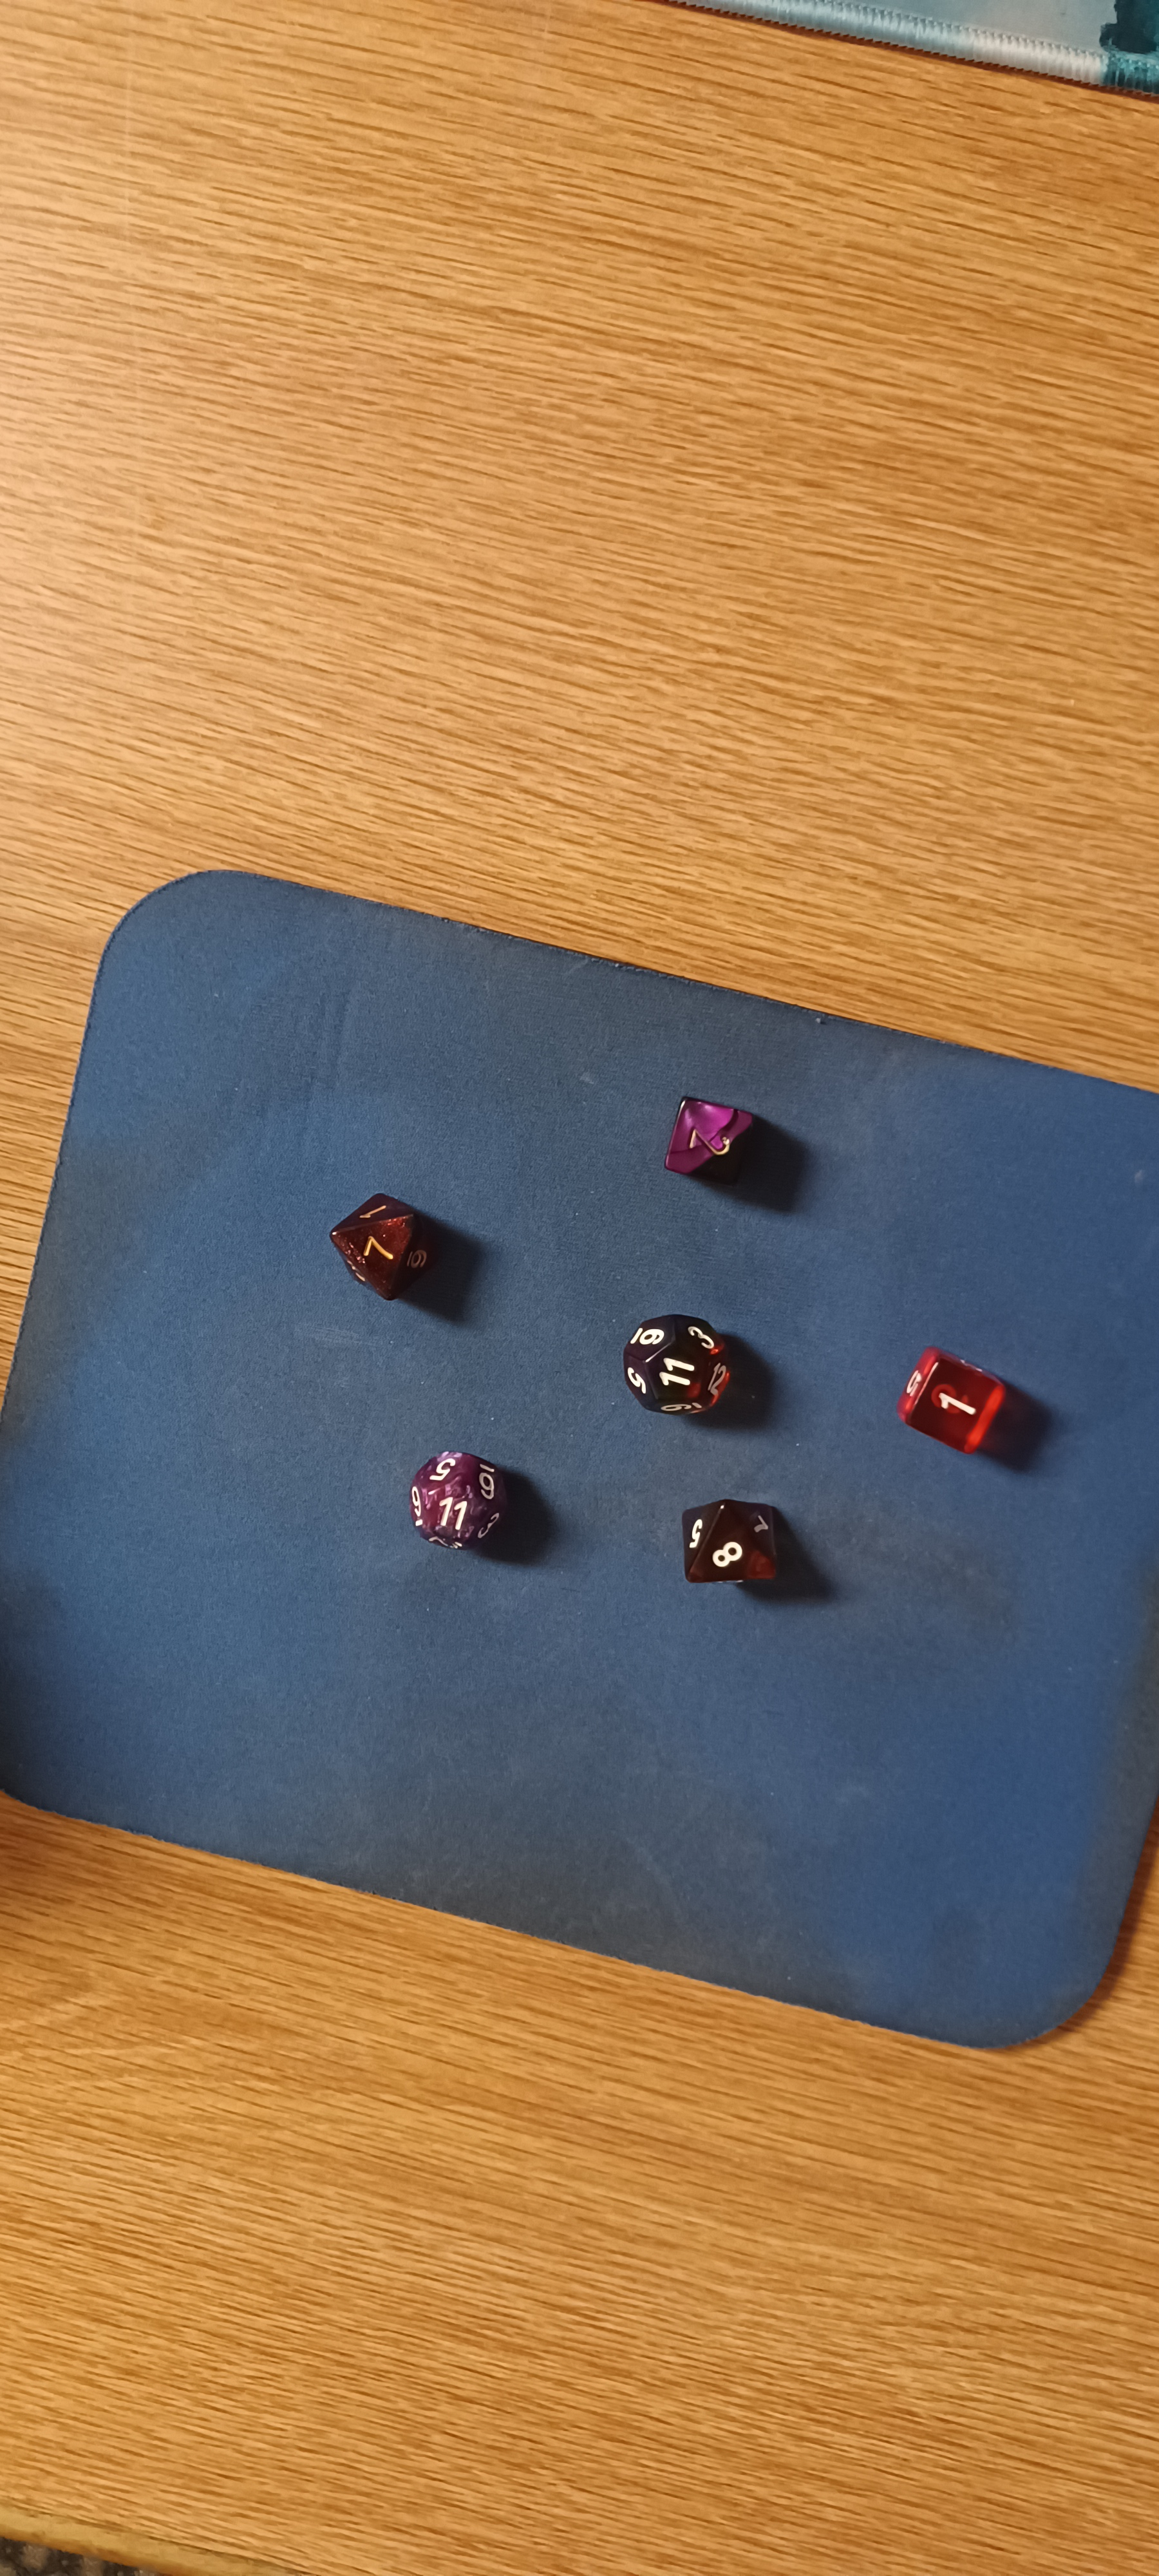eight: (644, 1482, 818, 1612)
eleven: (376, 1434, 525, 1561), (611, 1295, 755, 1423)
one: (885, 1326, 1024, 1472)
seven: (314, 1173, 442, 1314)
two: (637, 1081, 783, 1199)
